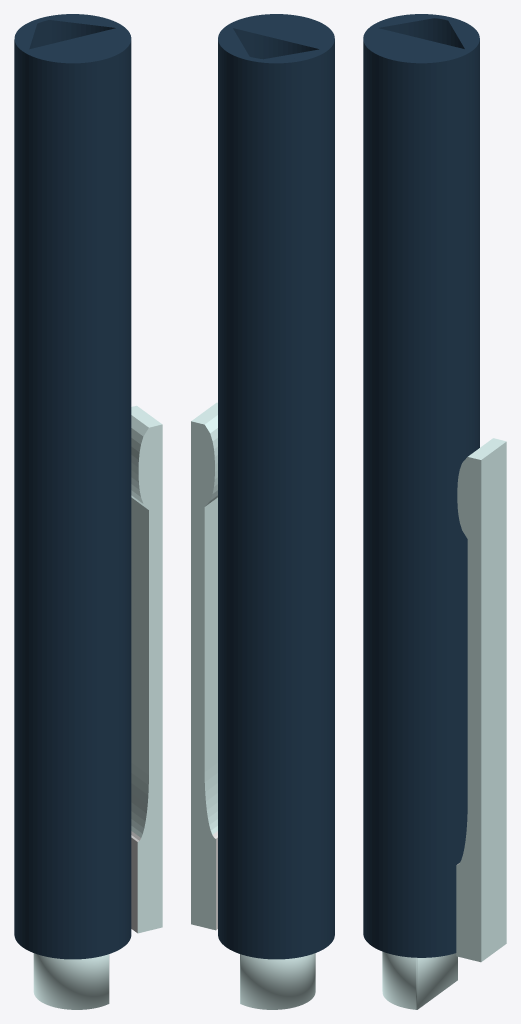
The model's file is pen1_5.fbx.
3 views of the same model, side by side, from view 1: azimuth 30°, elevation 25°; view 2: azimuth 150°, elevation 25°; view 3: azimuth 330°, elevation 25° (orthographic).
Visible parts, largest first — view 1: pen1_5; view 2: pen1_5; view 3: pen1_5.
Part boxes in pixels (bbox=[...]): pen1_5: bbox=[14, 14, 162, 1009]; pen1_5: bbox=[191, 14, 334, 1009]; pen1_5: bbox=[363, 14, 506, 1009].
Size of the model in its own units: 15.06 by 110 by 12.17.
